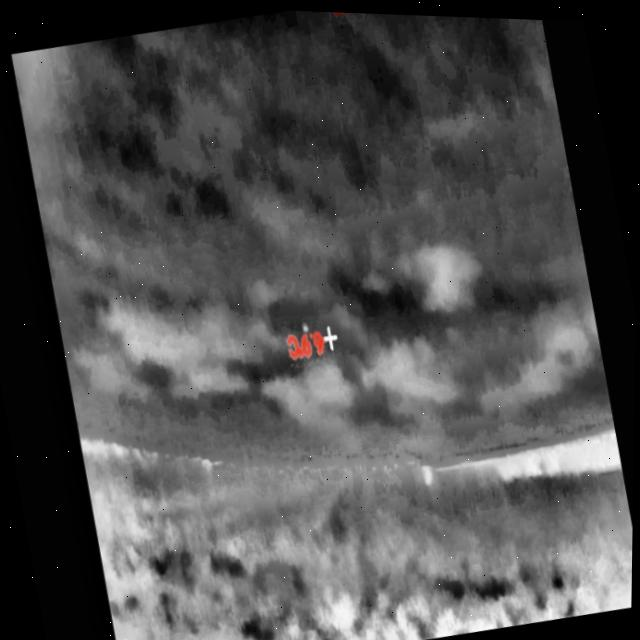drone: (302, 316, 313, 335)
